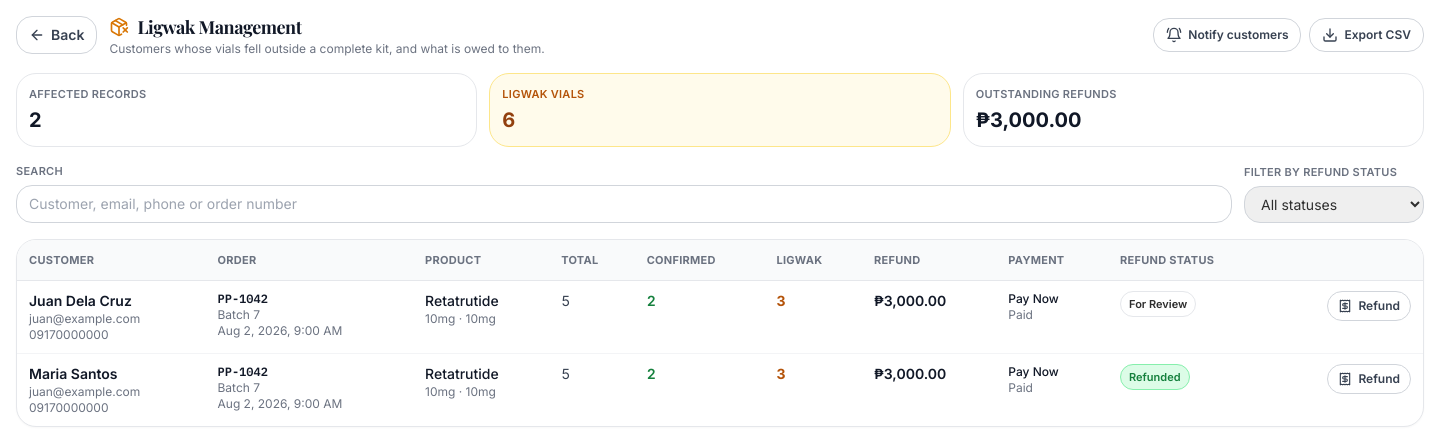
Test: LigwakManager › filters to a single refund status
The image size is (1440, 444).
Select "Refunded" in the dropdown labelled "Filter by refund status" at {"x": 1334, "y": 204}, box [1244,186,1424,223]
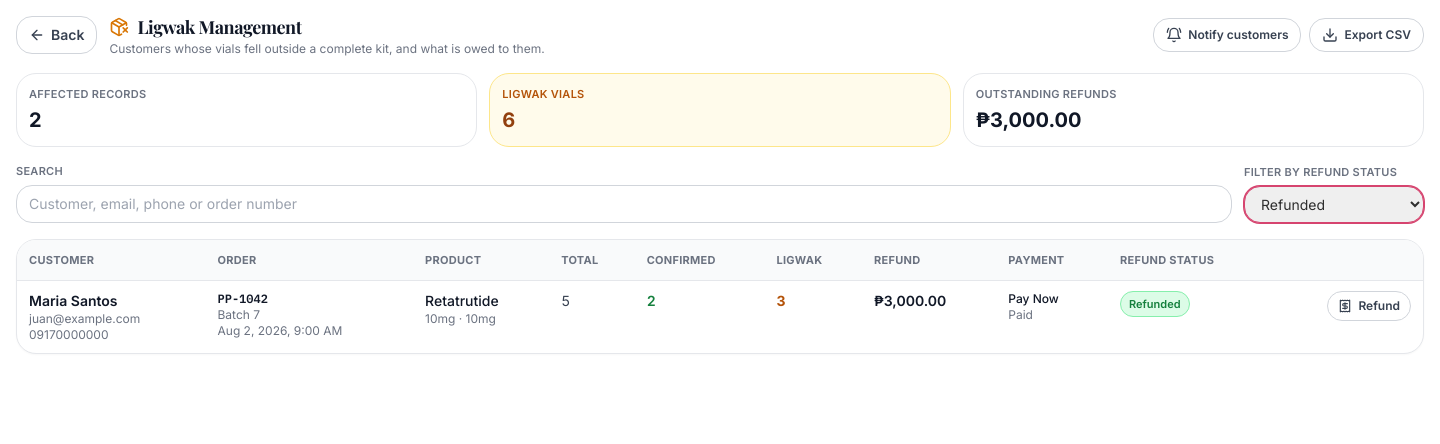
Expected: the text "Maria Santos" is shown, [29,291,118,311]
Now the text "Juan Dela Cruz" is gone
